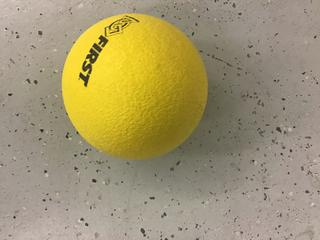power_cell: (56, 7, 203, 149)
